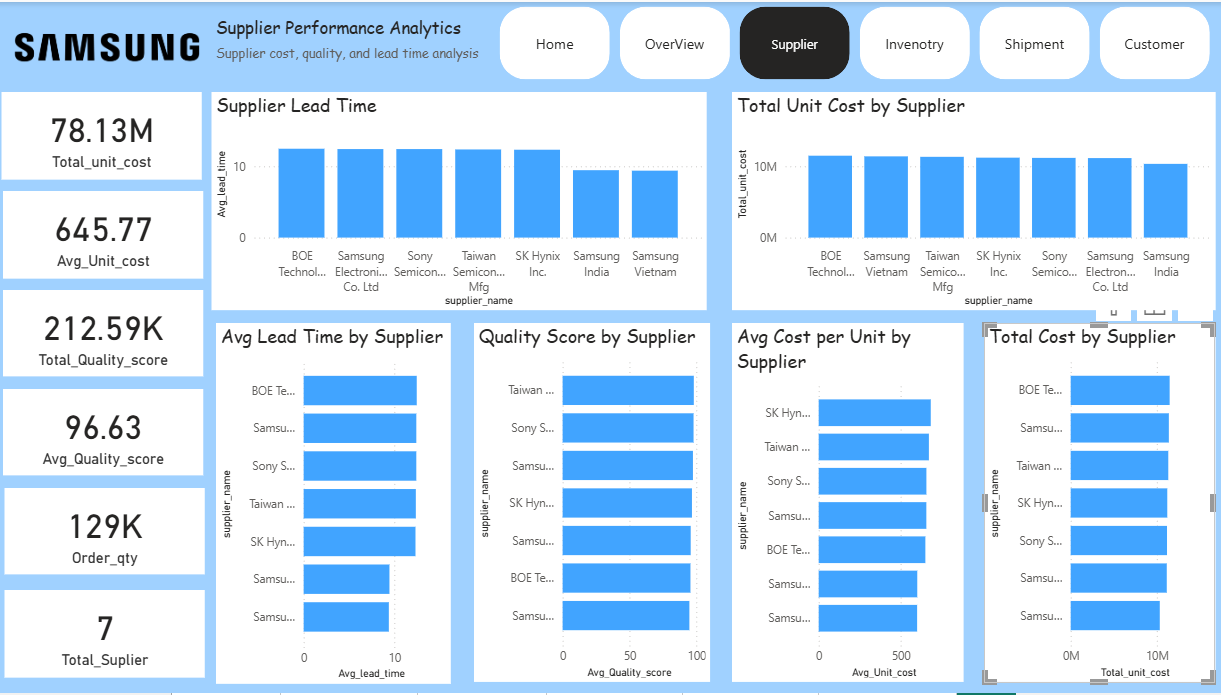

What the dashboard file says about the page in this screenshot:
{"tool":"powerbi","page":{"name":"Supplier","canvas":[1280,720],"ordinal":2},"visuals":[{"type":"shape","title":"Supplier","box":[225.1,14.1,273.5,65.6],"z":0},{"type":"image","box":[0,0,214.1,93.8],"z":1000},{"type":"card","fields":{"Values":["fact_procurement.Total_unit_cost"]},"box":[1.6,93.2,208.4,91.6],"z":2000},{"type":"card","fields":{"Values":["Sum(fact_procurement.quality_score)"]},"box":[3.2,300,208.4,90],"z":3000},{"type":"card","fields":{"Values":["fact_procurement.Avg_Quality_score"]},"box":[3.2,402.6,208.4,90],"z":4000},{"type":"card","fields":{"Values":["fact_procurement.Avg_Unit_cost"]},"box":[3.2,197.4,208.4,91.6],"z":5000},{"type":"card","fields":{"Values":["Measure_Table.Order_qty"]},"box":[4.7,506.8,208.4,90],"z":6000},{"type":"clusteredBarChart","title":"Average Lead Time by Supplier","fields":{"Y":["Measure_Table.Avg_lead_time"],"Category":["supplier.supplier_name"]},"box":[225.8,334.7,244.7,375.8],"z":7000},{"type":"card","fields":{"Values":["Count(fact_procurement.supplier_id)"]},"box":[4.7,612.6,208.4,91.6],"z":8000},{"type":"clusteredBarChart","title":"Average Quality Score by Supplier","fields":{"Category":["supplier.supplier_name"],"Y":["fact_procurement.Avg_Quality_score"]},"box":[494.2,334.7,246.3,374.2],"z":9000},{"type":"clusteredBarChart","title":"Average Unit Cost by Supplier","fields":{"Category":["supplier.supplier_name"],"Y":["fact_procurement.Avg_Unit_cost"]},"box":[762.6,334.7,241.6,374.2],"z":10000},{"type":"clusteredBarChart","title":"Total Unit Cost by Supplier","fields":{"Category":["supplier.supplier_name"],"Y":["fact_procurement.Total_unit_cost"]},"box":[1024.8,334.7,241.6,374.2],"z":11000},{"type":"columnChart","title":"Supplier Lead Time","fields":{"Category":["supplier.supplier_name"],"Y":["Measure_Table.Avg_lead_time"]},"box":[221.1,93.2,516.3,227.4],"z":12000},{"type":"columnChart","title":"Total Unit Cost by Supplier","fields":{"Category":["supplier.supplier_name"],"Y":["fact_procurement.Total_unit_cost"]},"box":[762.6,93.2,503.7,227.4],"z":13000},{"type":"pageNavigator","box":[520.5,4.7,745.5,76.6],"z":14000}]}

Visuals, with their boxes in screenshot pixels (x1, y1, x2, y2), scaled from the page's 1280x720 canvas onto the 1221x695 screenshot:
"Supplier" shape: bbox=(215, 14, 476, 77)
image: bbox=(0, 0, 204, 91)
card - fact_procurement.Total_unit_cost: bbox=(2, 90, 200, 178)
card - Sum(fact_procurement.quality_score): bbox=(3, 290, 202, 376)
card - fact_procurement.Avg_Quality_score: bbox=(3, 389, 202, 475)
card - fact_procurement.Avg_Unit_cost: bbox=(3, 191, 202, 279)
card - Measure_Table.Order_qty: bbox=(4, 489, 203, 576)
"Average Lead Time by Supplier" clusteredBarChart: bbox=(215, 323, 449, 686)
card - Count(fact_procurement.supplier_id): bbox=(4, 591, 203, 680)
"Average Quality Score by Supplier" clusteredBarChart: bbox=(471, 323, 706, 684)
"Average Unit Cost by Supplier" clusteredBarChart: bbox=(727, 323, 958, 684)
"Total Unit Cost by Supplier" clusteredBarChart: bbox=(978, 323, 1208, 684)
"Supplier Lead Time" columnChart: bbox=(211, 90, 703, 309)
"Total Unit Cost by Supplier" columnChart: bbox=(727, 90, 1208, 309)
pageNavigator: bbox=(497, 5, 1208, 78)
